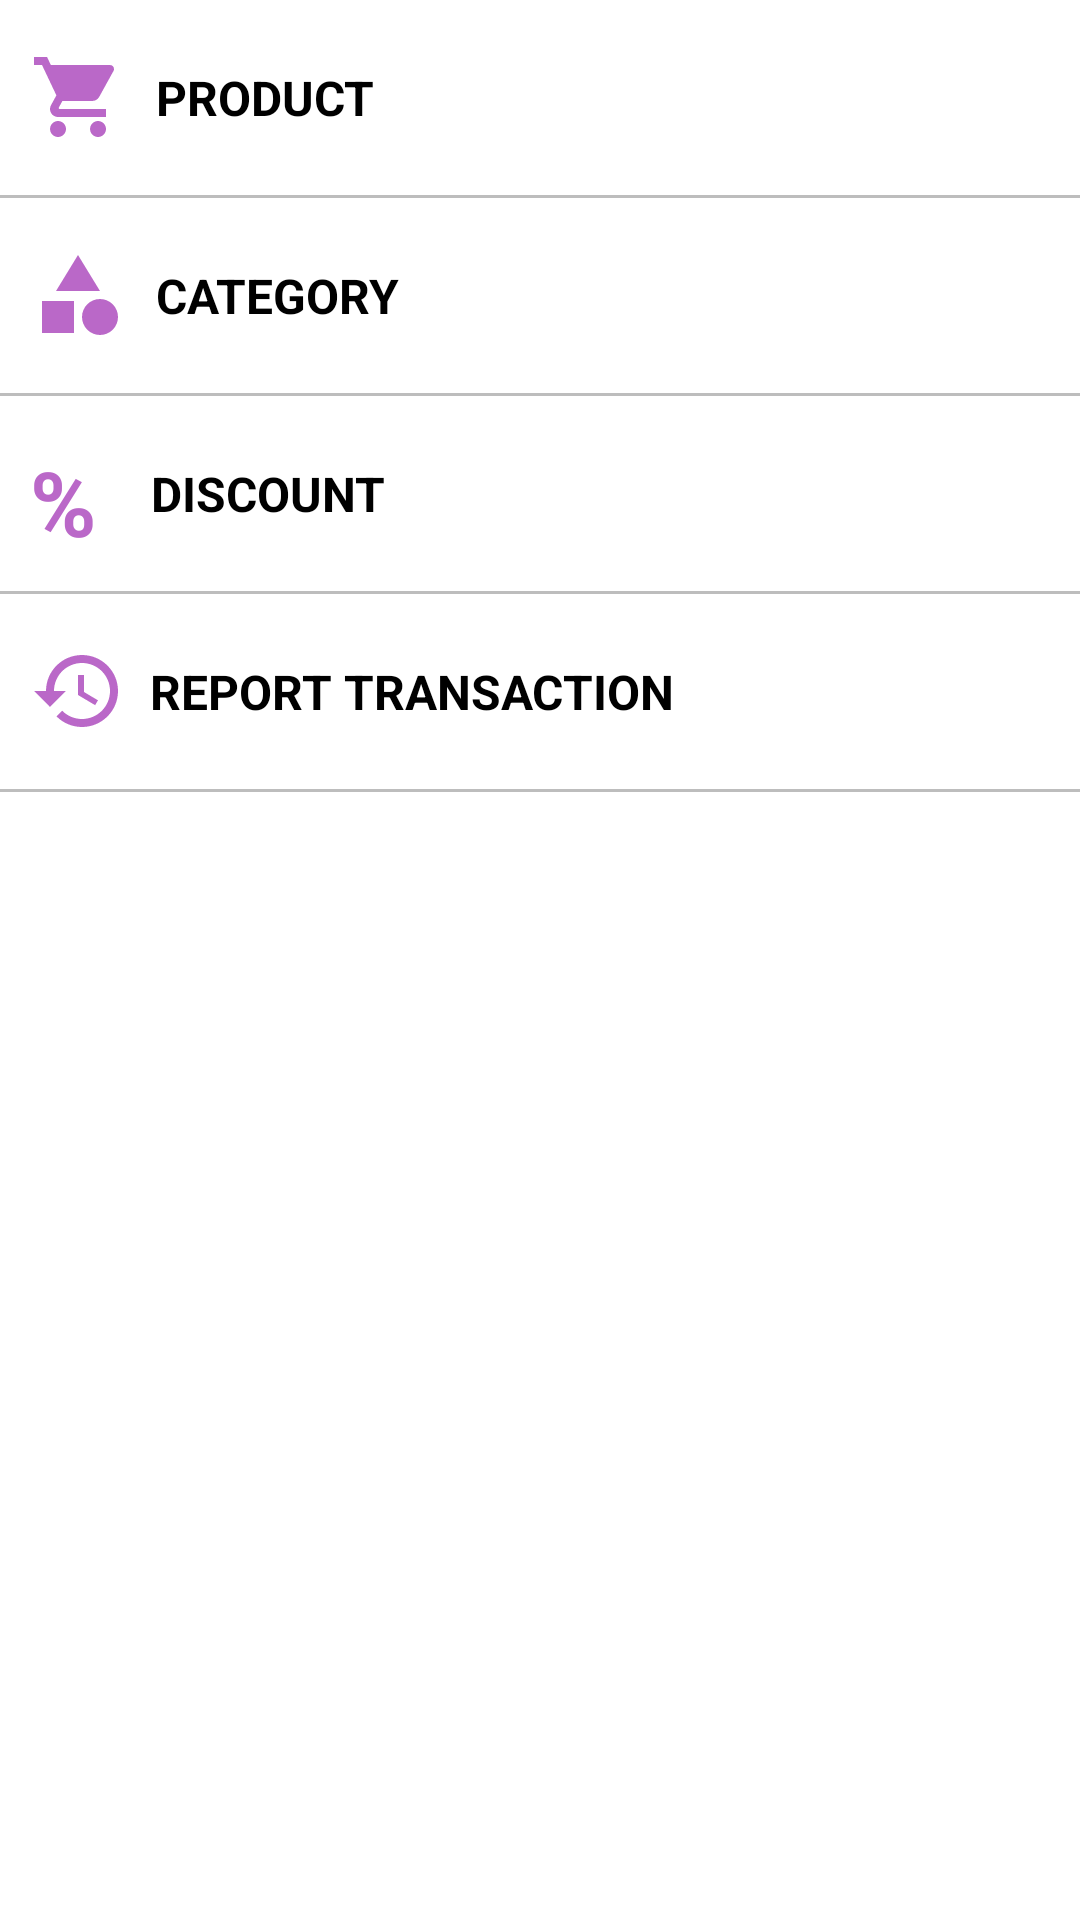

Icon bounding boxes for this 1080w x 1920h phone screenshot, format (x1, y1, x2, y2):
cart: (34, 57, 114, 137)
history: (34, 655, 118, 727)
